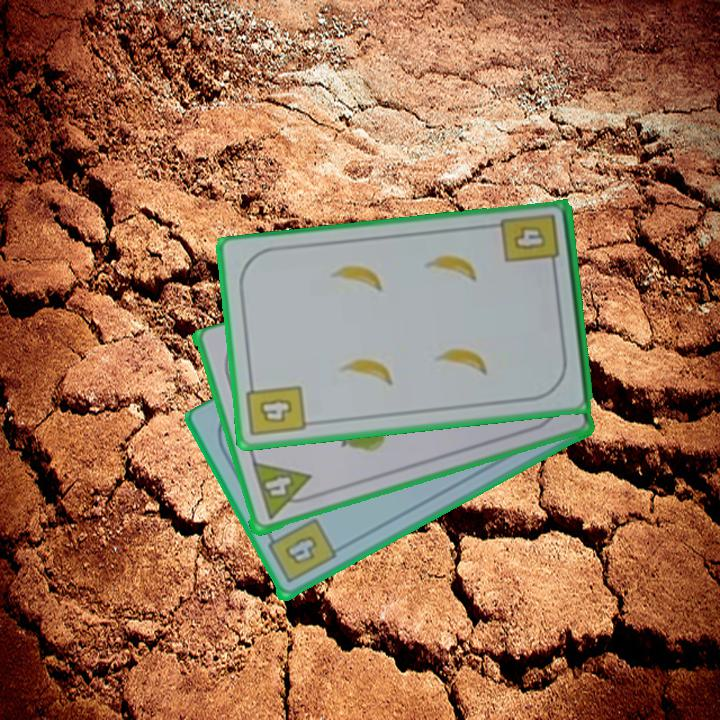4b: (262, 515, 339, 587), (498, 210, 563, 275), (243, 376, 309, 440)
4p: (253, 459, 311, 504)
